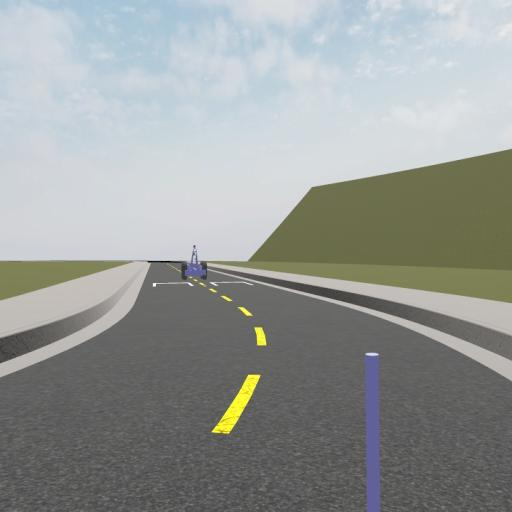ERP-42: (182, 244, 208, 281)
